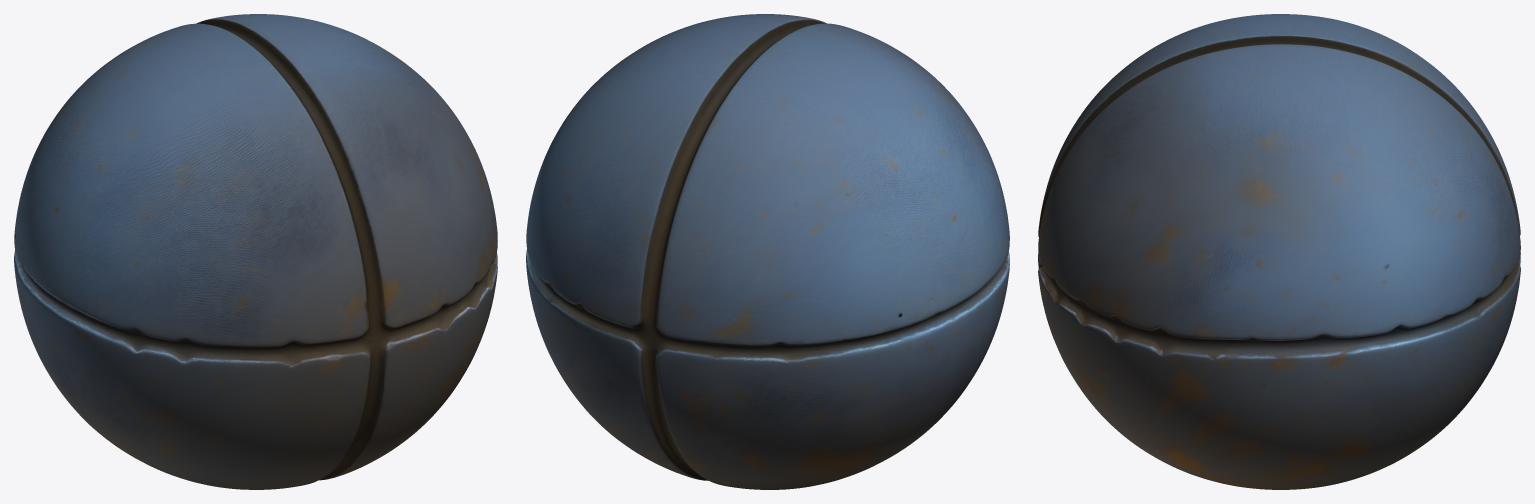
Rendered from cannonball.glb.
3 views of the same model, side by side, from view 1: azimuth 30°, elevation 25°; view 2: azimuth 150°, elevation 25°; view 3: azimuth 270°, elevation 25° (orthographic).
Parts seen in each view (by area): view 1: node_0; view 2: node_0; view 3: node_0.
Boxes of the visible parts, bbox=[...] form: node_0: bbox=[14, 14, 497, 489]; node_0: bbox=[526, 14, 1009, 489]; node_0: bbox=[1038, 14, 1520, 489].
Size of the model in its own units: 1.19 by 1.16 by 1.19.
Materials: 1 (1 with a texture image).
